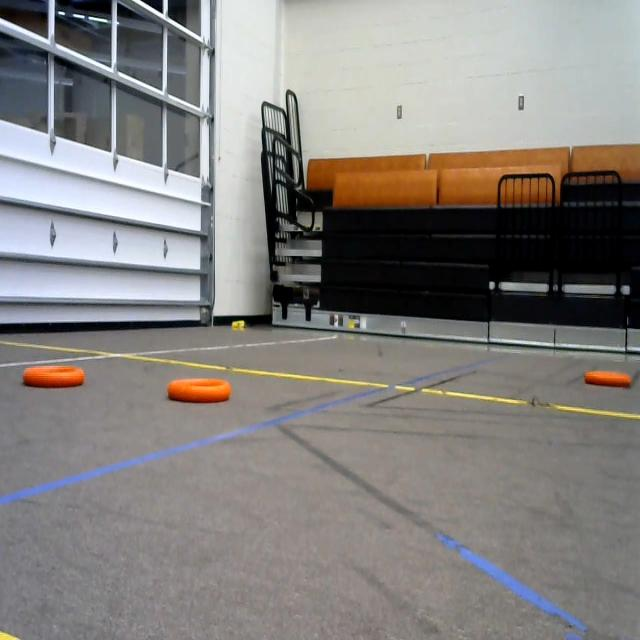note: (168, 365, 234, 411), (20, 365, 88, 394), (582, 358, 633, 390)
